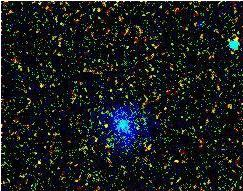star: (90, 109, 120, 139)
